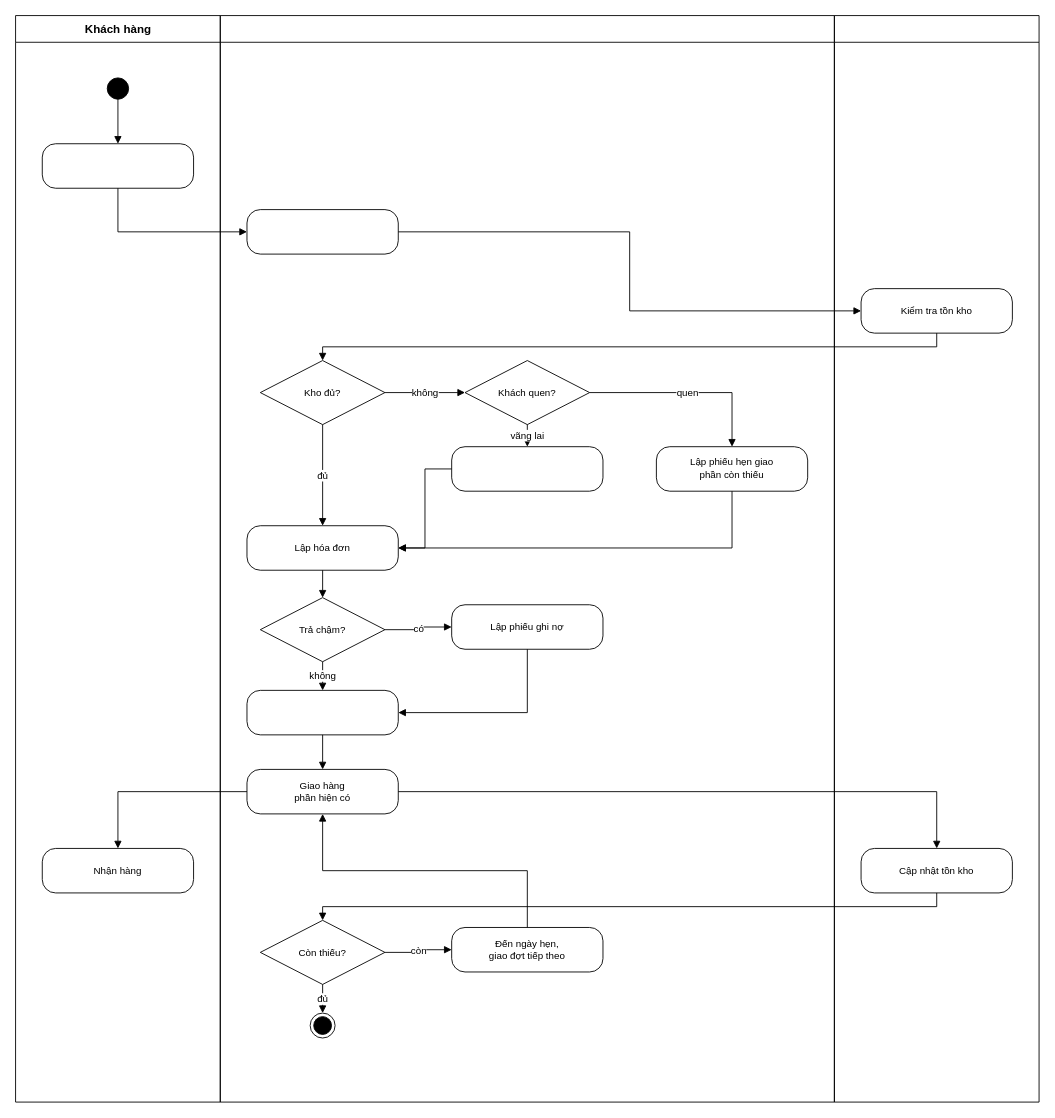
The diagram is 1055 pixels wide and 1118 high, and some of its shapes have lost their labels. Here are the shapes that lost their labels. From the top down, the box of each, then its label:
(41, 143, 194, 188): Đặt mua NGK
(246, 209, 398, 254): Tiếp nhận yêu cầu, xác định loại khách
(451, 446, 603, 491): Giảm số lượng theo tồn kho
(219, 15, 834, 1102): Nhân viên bán hàng
(833, 15, 1039, 1102): Hệ thống
(246, 689, 398, 735): Thanh toán
